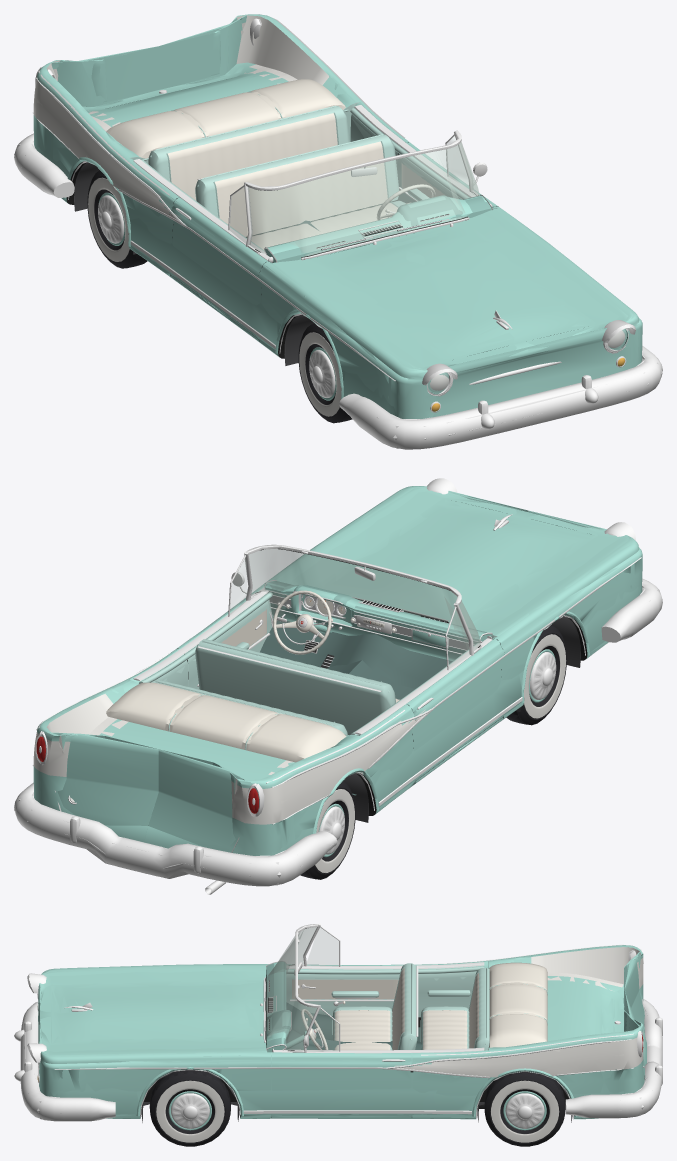
File: convertible.glb
3 views of the same model, one above another, from view 1: azimuth 30°, elevation 25°; view 2: azimuth 150°, elevation 25°; view 3: azimuth 270°, elevation 25° (orthographic). The views are drawn at different scales.
Visible parts, largest first — view 1: body, trim, body_L1, glass, glass_L1, trim_L1, wheel_FR_mesh, wheel_RR_mesh, wheel_FR_L1_mesh, wheel_RR_L1_mesh; view 2: trim, body, body_L1, trim_L1, glass, glass_L1, wheel_FR_mesh, wheel_RR_mesh, steering_wheel_mesh, wheel_FR_L1_mesh, wheel_RR_L1_mesh; view 3: body, trim, body_L1, trim_L1, glass, wheel_FL_mesh, wheel_RL_mesh, glass_L1, wheel_FL_L1_mesh, wheel_RL_L1_mesh, steering_wheel_mesh.
Part boxes in pixels (<box>): body: <box>33,14,642,418</box>; trim: <box>14,15,662,449</box>; body_L1: <box>34,14,642,418</box>; glass: <box>229,136,479,255</box>; glass_L1: <box>248,143,479,255</box>; trim_L1: <box>14,19,662,448</box>; wheel_FR_mesh: <box>298,324,352,423</box>; wheel_RR_mesh: <box>87,170,147,268</box>; wheel_FR_L1_mesh: <box>299,323,350,422</box>; wheel_RR_L1_mesh: <box>87,173,146,268</box>; trim: <box>14,478,662,894</box>; body: <box>33,486,642,855</box>; body_L1: <box>34,486,642,855</box>; trim_L1: <box>14,478,662,885</box>; glass: <box>230,549,480,668</box>; glass_L1: <box>249,549,480,649</box>; wheel_FR_mesh: <box>506,626,566,725</box>; wheel_RR_mesh: <box>300,781,355,879</box>; steering_wheel_mesh: <box>273,590,331,654</box>; wheel_FR_L1_mesh: <box>506,625,566,724</box>; wheel_RR_L1_mesh: <box>301,785,354,879</box>; body: <box>38,945,646,1119</box>; trim: <box>14,923,662,1122</box>; body_L1: <box>38,945,644,1118</box>; trim_L1: <box>21,924,662,1119</box>; glass: <box>266,927,338,1051</box>; wheel_FL_mesh: <box>150,1070,230,1146</box>; wheel_RL_mesh: <box>484,1072,565,1146</box>; glass_L1: <box>266,927,316,1049</box>; wheel_FL_L1_mesh: <box>149,1070,230,1145</box>; wheel_RL_L1_mesh: <box>484,1071,565,1145</box>; steering_wheel_mesh: <box>301,1009,328,1049</box>.
Bounding box in the file's own units: 2.3 × 1.4 × 5.74.
